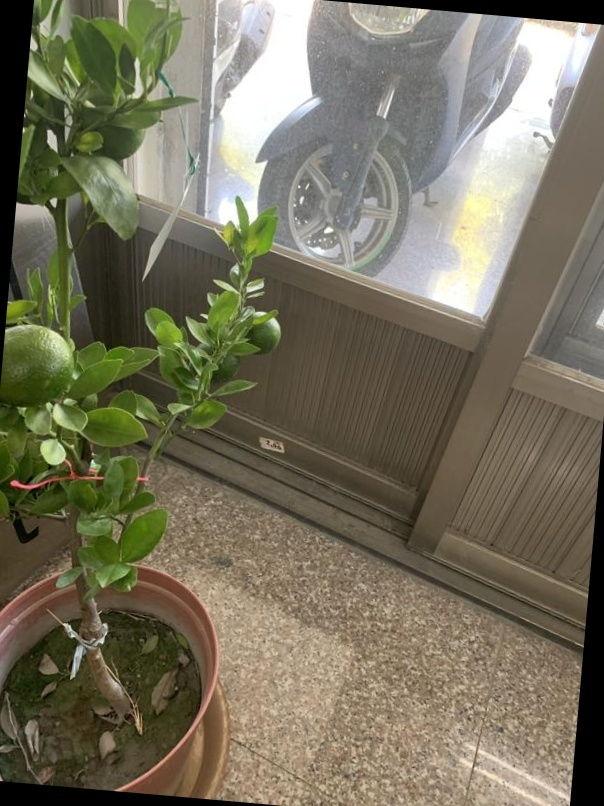Tangerine: (2, 322, 76, 411)
